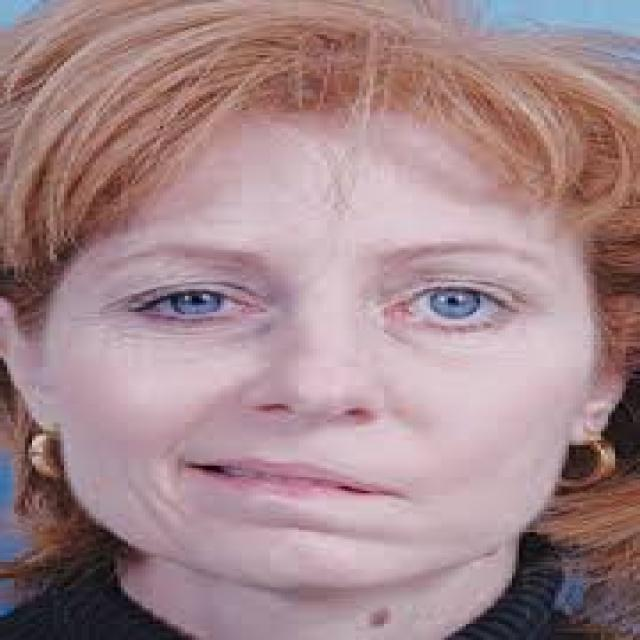stroke_face: (45, 49, 599, 576)
